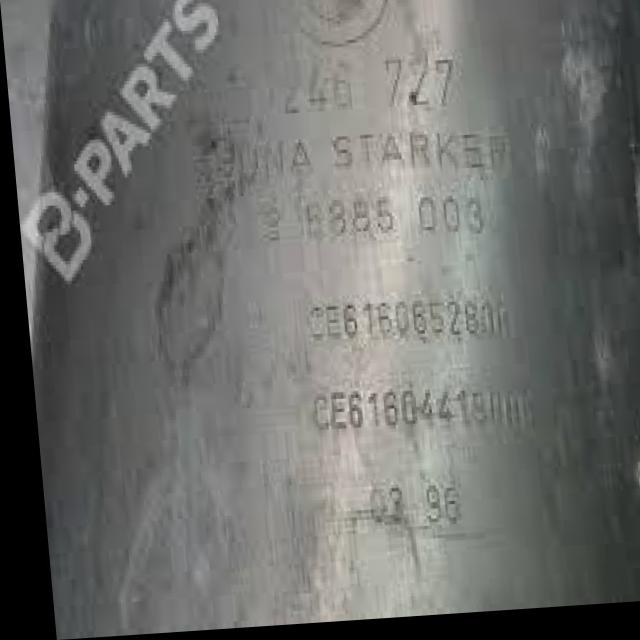ocr: (223, 34, 556, 581)
